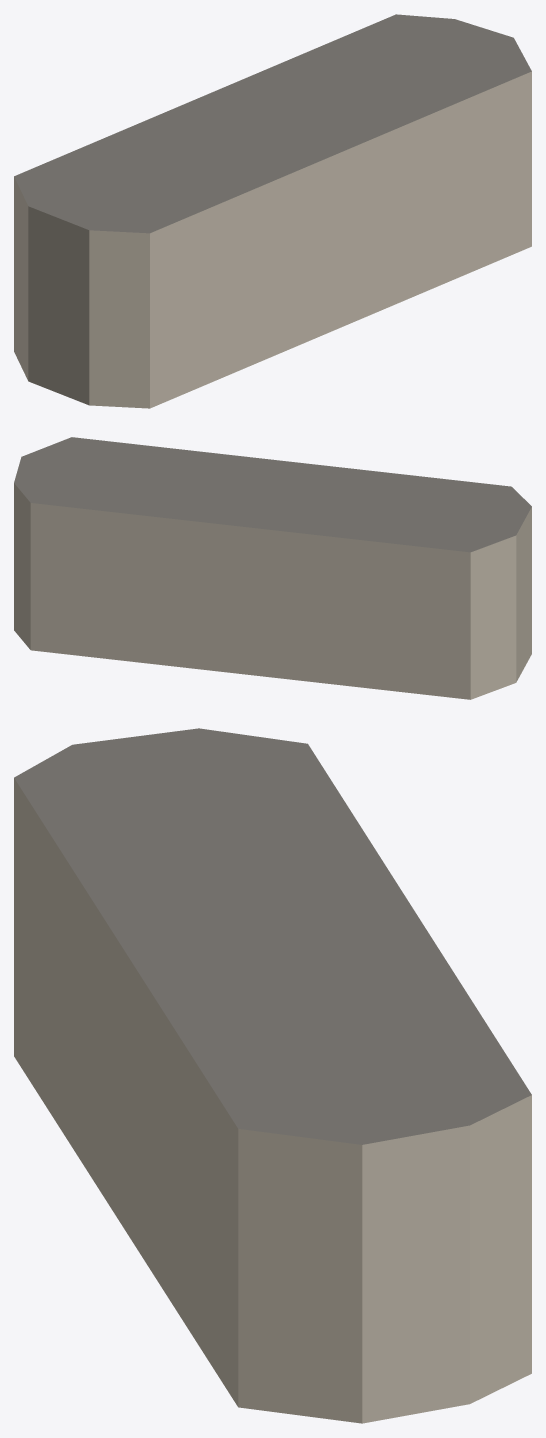
The picture shows the model from 3 angles, top to bottom: view 1: azimuth 30°, elevation 25°; view 2: azimuth 150°, elevation 25°; view 3: azimuth 270°, elevation 25°; orthographic projection. The views are drawn at different scales.
Visible parts, largest first — view 1: HP-w378107249; view 2: HP-w378107249; view 3: HP-w378107249.
Boxes of the visible parts, bbox=[...] form: HP-w378107249: bbox=[14, 14, 531, 408]; HP-w378107249: bbox=[14, 437, 531, 699]; HP-w378107249: bbox=[14, 728, 531, 1423].
Size of the model in its own units: 57.7 by 18 by 30.32.
